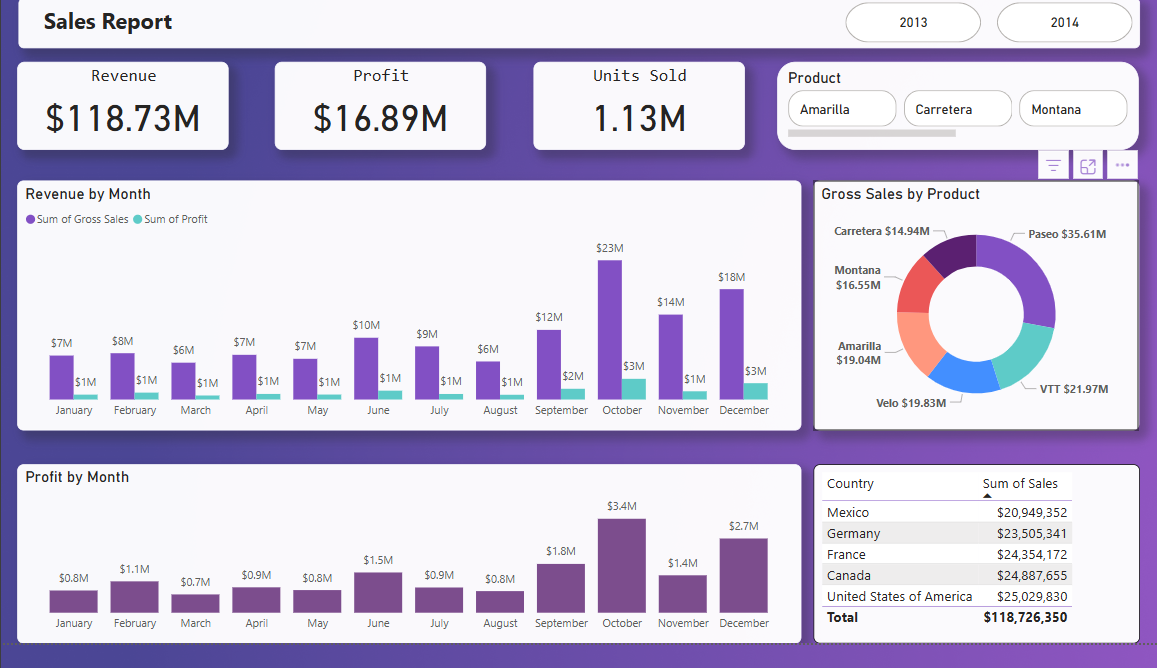

What the dashboard file says about the page in this screenshot:
{"tool":"powerbi","page":{"name":"Page 1","canvas":[1280,720],"ordinal":0},"visuals":[{"type":"textbox","box":[19.2,11,1230.9,54.9],"z":0},{"type":"card","title":"Revenue ","fields":{"Values":["financials.Revenue"]},"box":[18.3,80.3,232.4,97.2],"z":1000},{"type":"card","title":"Units Sold","fields":{"Values":["financials.Unit_Sold"]},"box":[584.5,80.3,232.4,97.2],"z":2000},{"type":"card","title":"Profit","fields":{"Values":["financials.Profit_sum"]},"box":[300,80.3,232.4,97.2],"z":3000},{"type":"advancedSlicerVisual","fields":{"Values":["financials.Product"]},"box":[852.1,80.3,397.2,97.2],"z":4000},{"type":"clusteredColumnChart","title":"Revenue by Month","fields":{"Category":["financials.Date.Variation.Date Hierarchy.Month"],"Y":["Sum(financials.Gross Sales)","Sum(financials.Profit)"]},"box":[18.3,211.3,860.6,274.6],"z":5000},{"type":"columnChart","title":"Profit by Month","fields":{"Category":["financials.Date.Variation.Date Hierarchy.Month"],"Y":["Sum(financials.Profit)"]},"box":[18.3,522.5,860.6,197.2],"z":6000},{"type":"donutChart","title":"Gross Sales by Product","fields":{"Category":["financials.Product"],"Y":["Sum(financials.Gross Sales)"]},"box":[891.5,211.3,357.7,274.6],"z":7000},{"type":"advancedSlicerVisual","fields":{"Values":["financials.Date.Variation.Date Hierarchy.Year"]},"box":[922.1,11,326.6,54.9],"z":8000},{"type":"tableEx","fields":{"Values":["financials.Country","Sum(financials. Sales)"]},"box":[892,523,358,197],"z":9000}]}

Visuals, with their boxes in screenshot pixels (x1, y1, x2, y2), scaled from the page's 1280x720 canvas onto the 1157x668 screenshot:
textbox: (x1=17, y1=10, x2=1130, y2=61)
"Revenue " card: (x1=17, y1=75, x2=227, y2=165)
"Units Sold" card: (x1=528, y1=75, x2=738, y2=165)
"Profit" card: (x1=271, y1=75, x2=481, y2=165)
advancedSlicerVisual - financials.Product: (x1=770, y1=75, x2=1129, y2=165)
"Revenue by Month" clusteredColumnChart: (x1=17, y1=196, x2=794, y2=451)
"Profit by Month" columnChart: (x1=17, y1=485, x2=794, y2=667)
"Gross Sales by Product" donutChart: (x1=806, y1=196, x2=1129, y2=451)
advancedSlicerVisual - financials.Date.Variation.Date Hierarchy.Year: (x1=833, y1=10, x2=1129, y2=61)
tableEx - financials.Country x Sum(financials. Sales): (x1=806, y1=485, x2=1130, y2=667)
